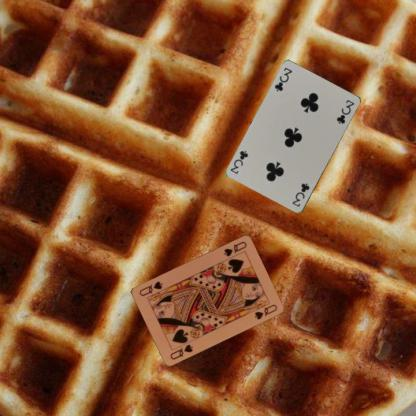3c: (272, 65, 294, 93), (289, 181, 311, 208)
Qs: (221, 238, 248, 258), (168, 342, 194, 360)
